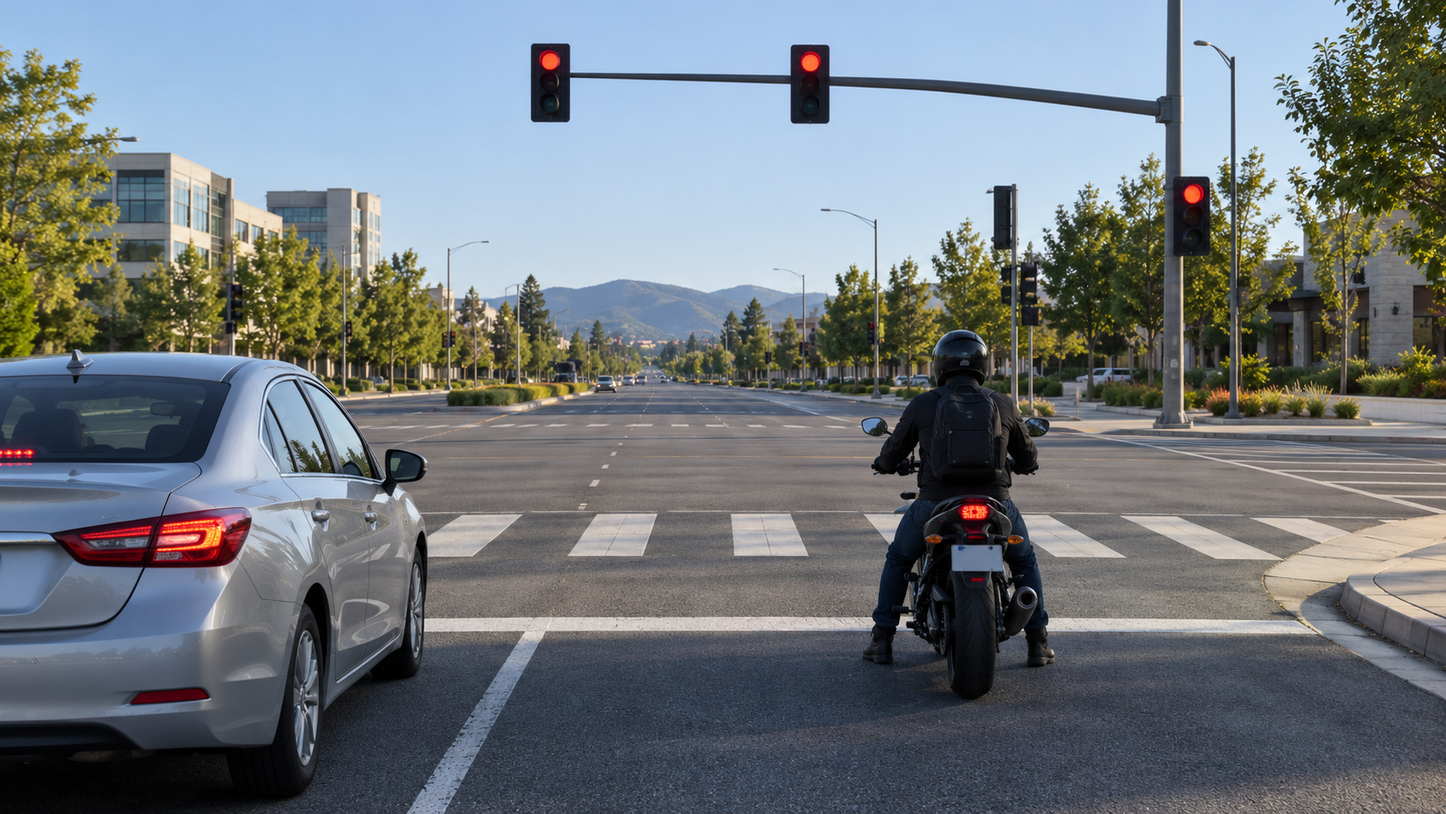car: (0, 350, 428, 762)
motorcycle: (864, 349, 1053, 701)
person: (878, 328, 1046, 641)
traffic_light: (1171, 176, 1218, 257), (787, 42, 832, 125), (528, 42, 573, 124)
zebra_crossing: (502, 512, 1133, 581)
